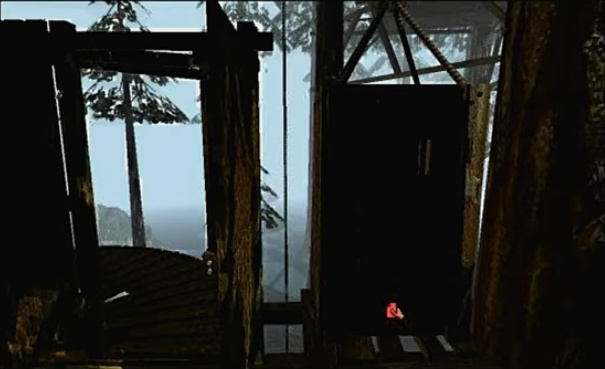Keep: (382, 298, 408, 321)
